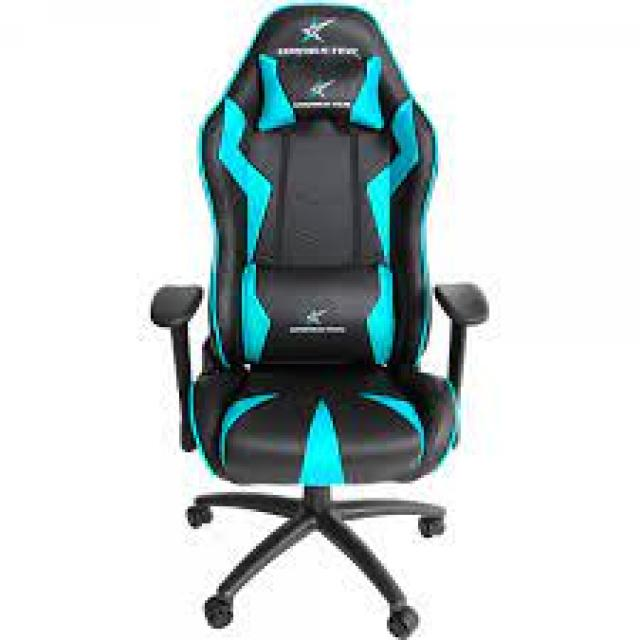bottle: (145, 0, 493, 637)
